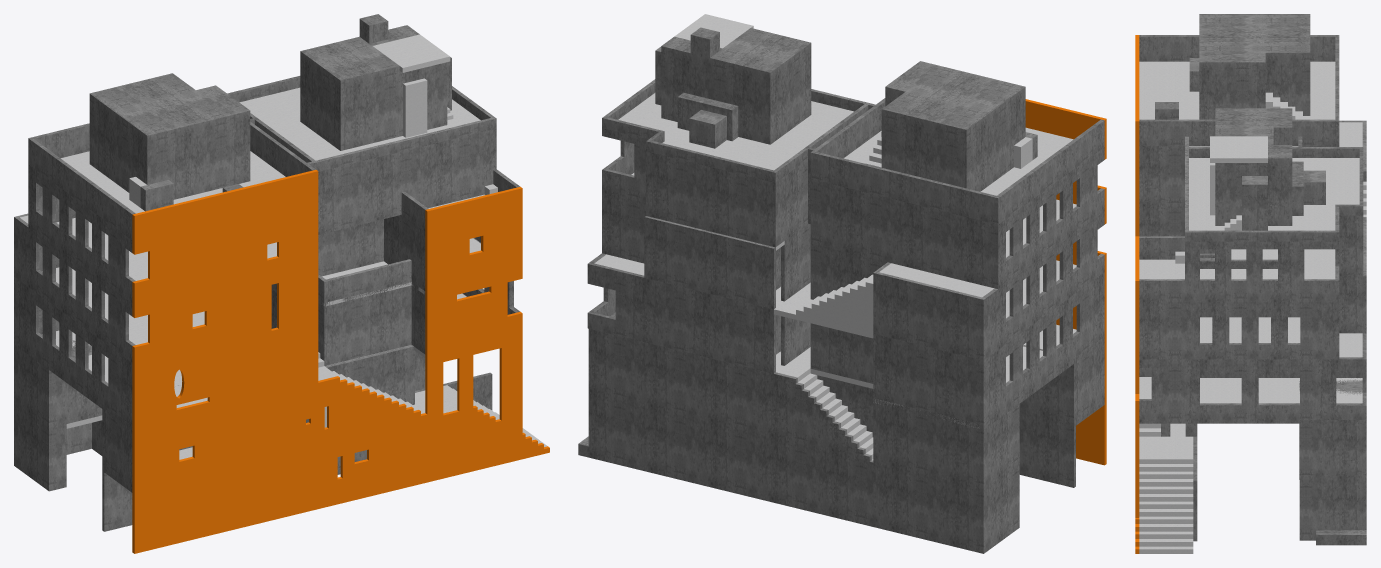
The model's file is 20251023_BUILDIUNG 2 OVERALL.fbx.
The picture shows the model from 3 angles, left to right: view 1: azimuth 30°, elevation 25°; view 2: azimuth 150°, elevation 25°; view 3: azimuth 270°, elevation 25°; orthographic projection. The views are drawn at different scales.
Visible parts, largest first — view 1: WALL, SLAB, STAIRS; view 2: WALL, SLAB, STAIRS; view 3: WALL, SLAB, STAIRS.
Boxes of the visible parts, box(x1,y1,x2,y2) form: WALL: box(14, 14, 549, 553); SLAB: box(20, 34, 497, 459); STAIRS: box(306, 107, 547, 446); WALL: box(578, 27, 1106, 553); SLAB: box(594, 14, 1076, 460); STAIRS: box(776, 132, 881, 459); WALL: box(1135, 14, 1366, 553); SLAB: box(1139, 61, 1362, 436); STAIRS: box(1139, 92, 1366, 553).
Bounding box in the file's own units: 702 × 647 × 353.
Materials: 3 (2 with a texture image).
